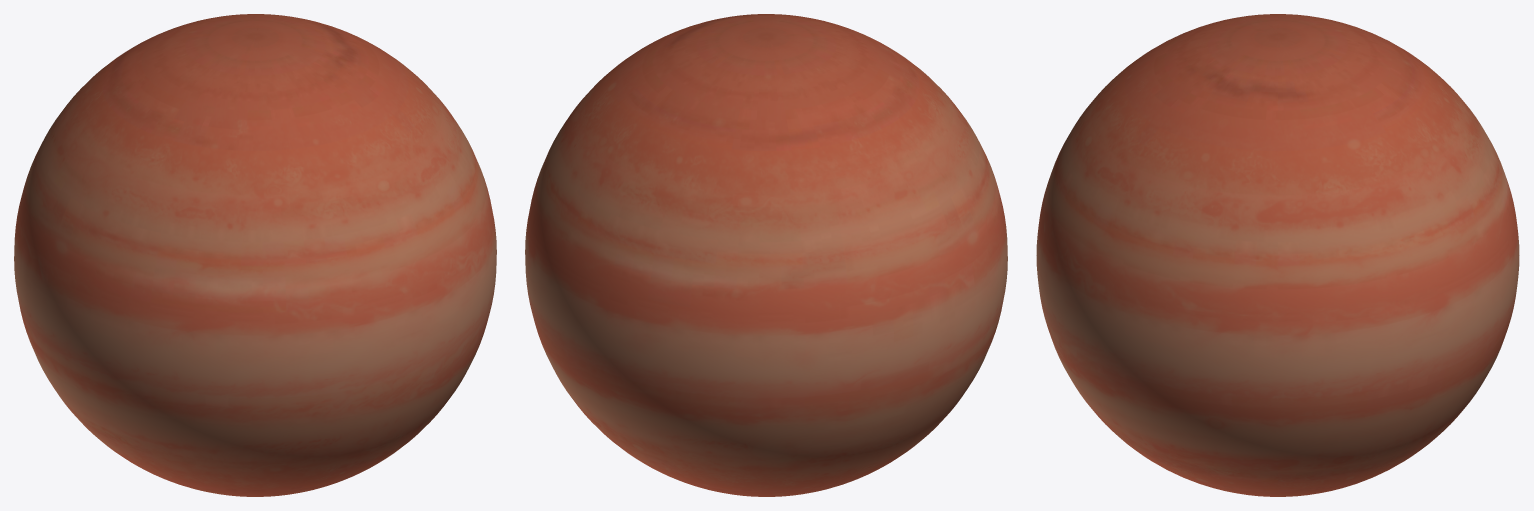
The model's file is HAT-P-59_b.glb.
3 renders of one model, left to right at view 1: azimuth 30°, elevation 25°; view 2: azimuth 150°, elevation 25°; view 3: azimuth 270°, elevation 25°, orthographic.
Parts seen in each view (by area): view 1: HAT-P-59 b; view 2: HAT-P-59 b; view 3: HAT-P-59 b.
Part boxes in pixels (box(x1,y1,x2,y2)): HAT-P-59 b: box(14, 14, 496, 496); HAT-P-59 b: box(525, 14, 1007, 496); HAT-P-59 b: box(1036, 14, 1519, 496).
Size of the model in its own units: 2 by 2 by 2.
Materials: 1 (1 with a texture image).
